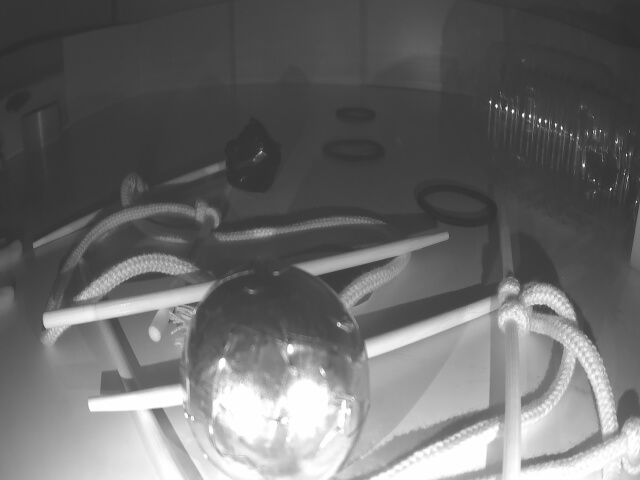Dead: (230, 110, 280, 192)
Live: (185, 261, 369, 480)
